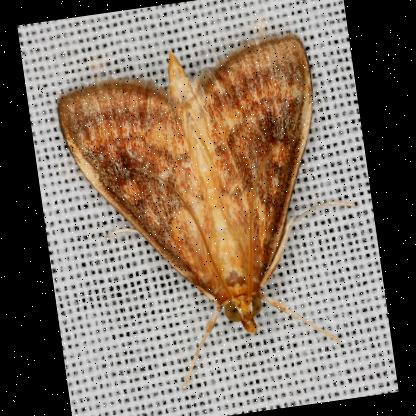Asian Corn Borer Moth: (47, 20, 380, 404)
